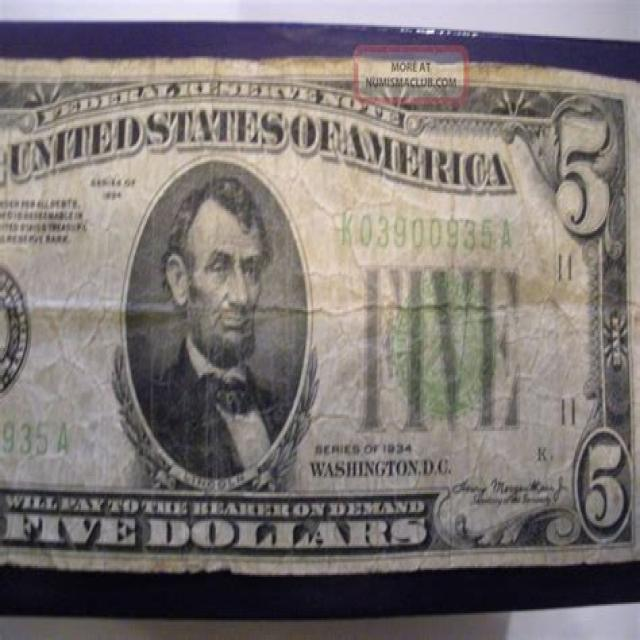Five: (0, 56, 640, 571)
